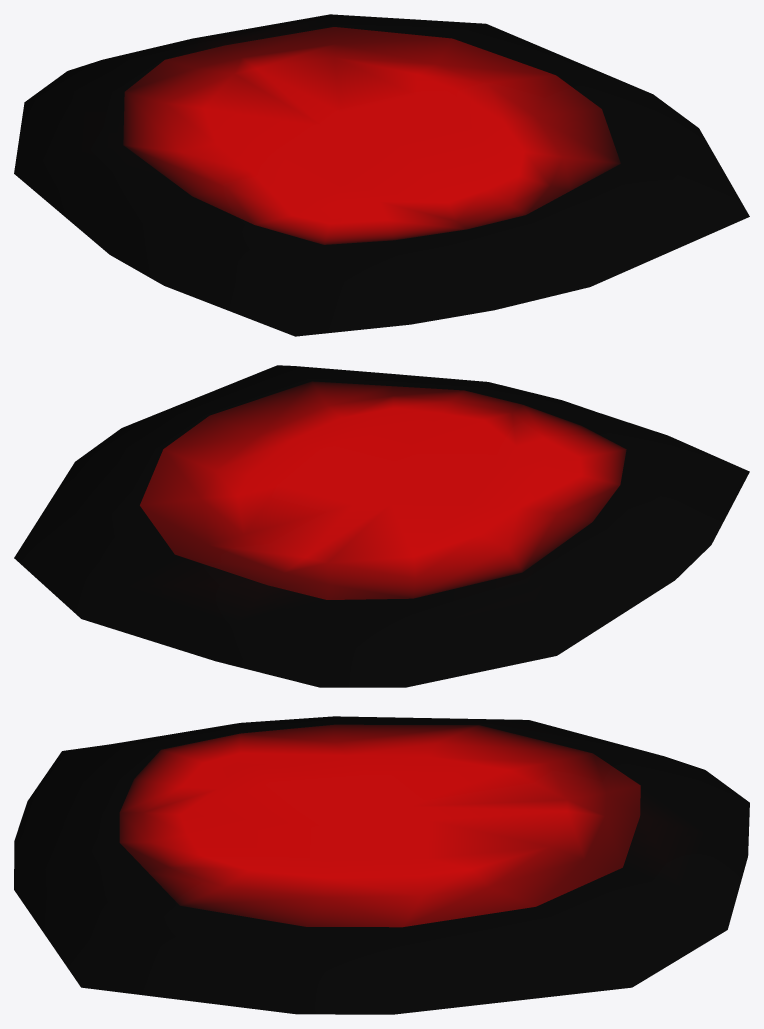
Rendered from egypt_environment_slower.fbx.
3 views of the same model, one above another, from view 1: azimuth 30°, elevation 25°; view 2: azimuth 150°, elevation 25°; view 3: azimuth 270°, elevation 25° (orthographic). The views are drawn at different scales.
Parts seen in each view (by area): view 1: egypt_slower; view 2: egypt_slower; view 3: egypt_slower.
Part boxes in pixels (bbox=[...]): egypt_slower: bbox=[14, 14, 749, 336]; egypt_slower: bbox=[14, 365, 749, 687]; egypt_slower: bbox=[14, 716, 749, 1014].
Bounding box in the file's own units: 251 × 17.35 × 267.
